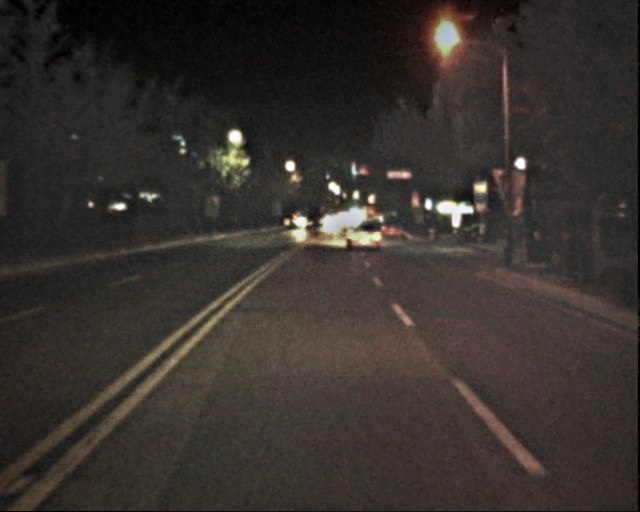person: (496, 221, 519, 278)
